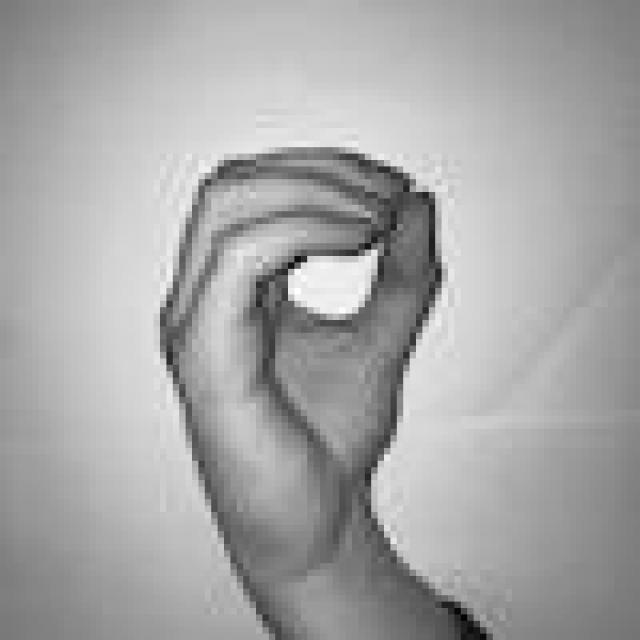O: (157, 128, 438, 570)
